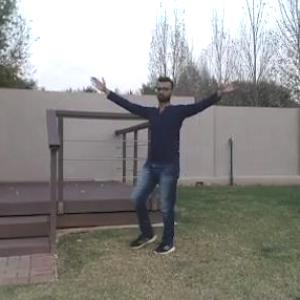takeoff: (99, 71, 257, 262)
